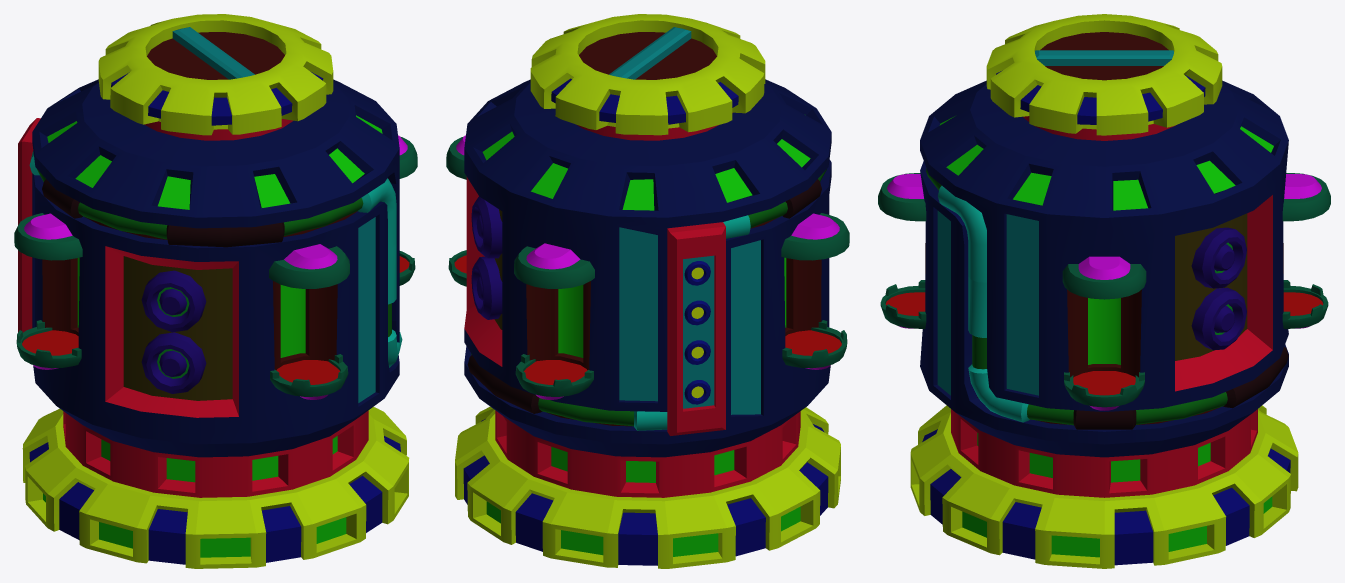
The model's file is OBJ_Generateur_batterie.fbx.
3 views of the same model, side by side, from view 1: azimuth 30°, elevation 25°; view 2: azimuth 150°, elevation 25°; view 3: azimuth 270°, elevation 25° (orthographic).
Visible parts, largest first — view 1: OBJ_Generateur_Batterie; view 2: OBJ_Generateur_Batterie; view 3: OBJ_Generateur_Batterie.
Part boxes in pixels (bbox=[...]): OBJ_Generateur_Batterie: bbox=[14, 14, 417, 568]; OBJ_Generateur_Batterie: bbox=[446, 14, 849, 568]; OBJ_Generateur_Batterie: bbox=[878, 14, 1330, 568].
Size of the model in its own units: 246 by 261 by 246.
